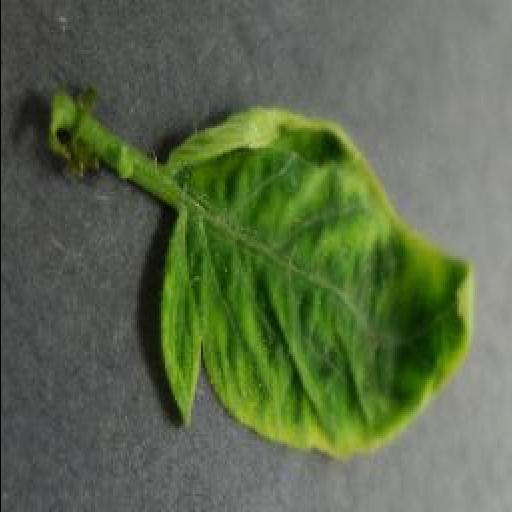disease_tomato: (154, 103, 482, 459)
